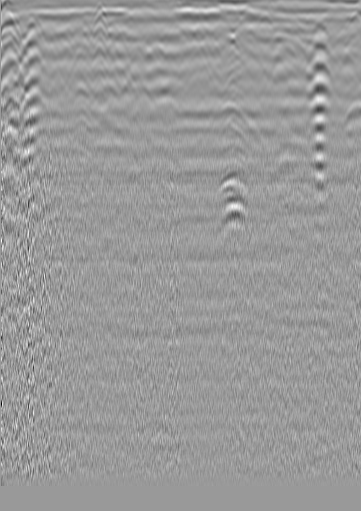가스: (210, 167, 253, 201)
상수: (302, 23, 332, 46)
오수: (15, 21, 46, 61)
우수: (174, 21, 194, 41)
